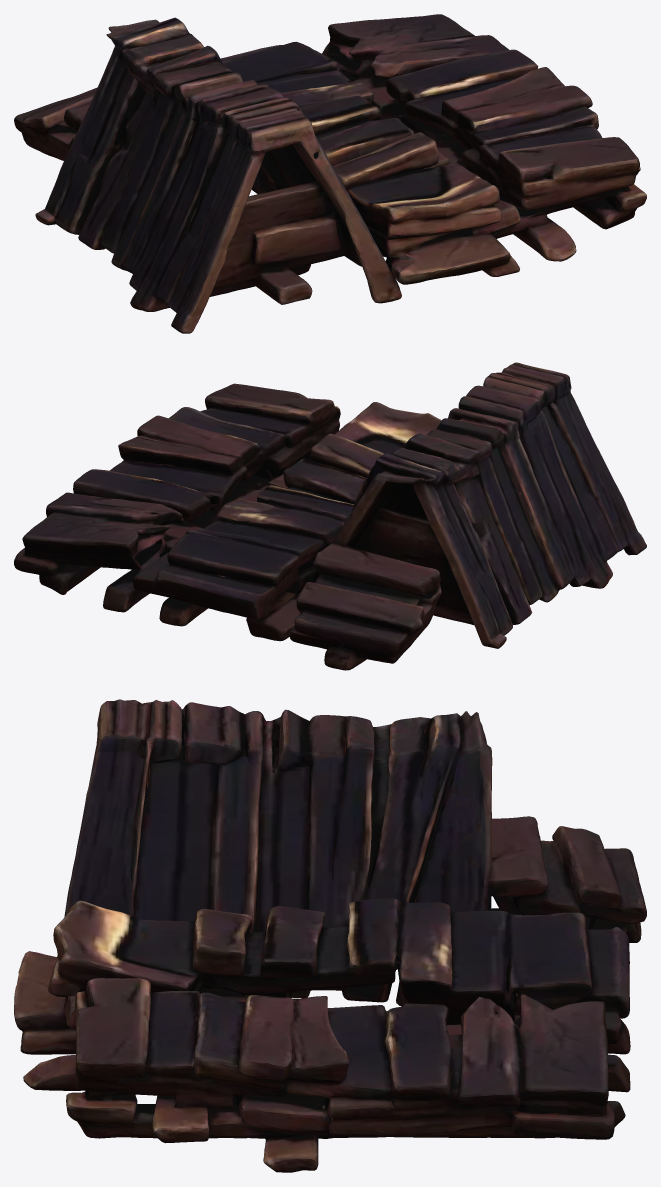
File: field_charred_beam_pile_01.glb
The picture shows the model from 3 angles, top to bottom: view 1: azimuth 30°, elevation 25°; view 2: azimuth 150°, elevation 25°; view 3: azimuth 270°, elevation 25°; orthographic projection. The views are drawn at different scales.
Parts seen in each view (by area): view 1: geometry_0; view 2: geometry_0; view 3: geometry_0.
Boxes of the visible parts, box(x1,y1,x2,y2) form: geometry_0: box(14, 14, 646, 333); geometry_0: box(14, 362, 646, 670); geometry_0: box(14, 699, 646, 1172).
Bounding box in the file's own units: 1 × 0.3698 × 0.9034.
Materials: 1 (1 with a texture image).
